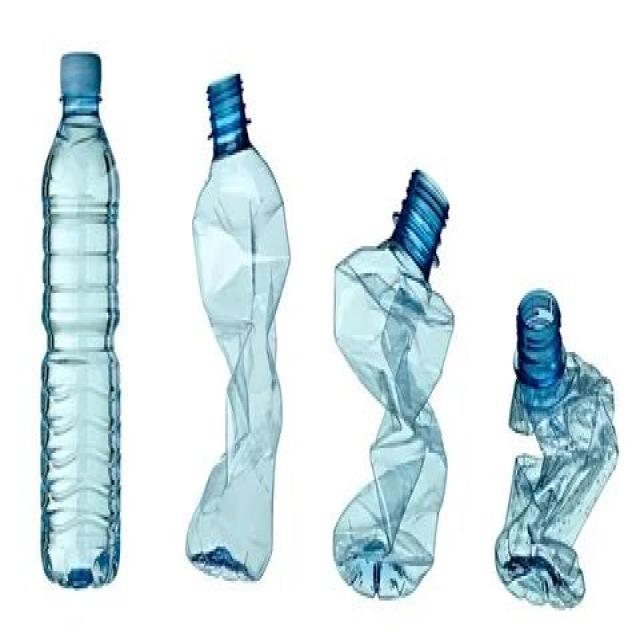blue: (331, 169, 457, 599), (186, 65, 290, 582), (39, 97, 122, 589), (494, 294, 620, 607)
